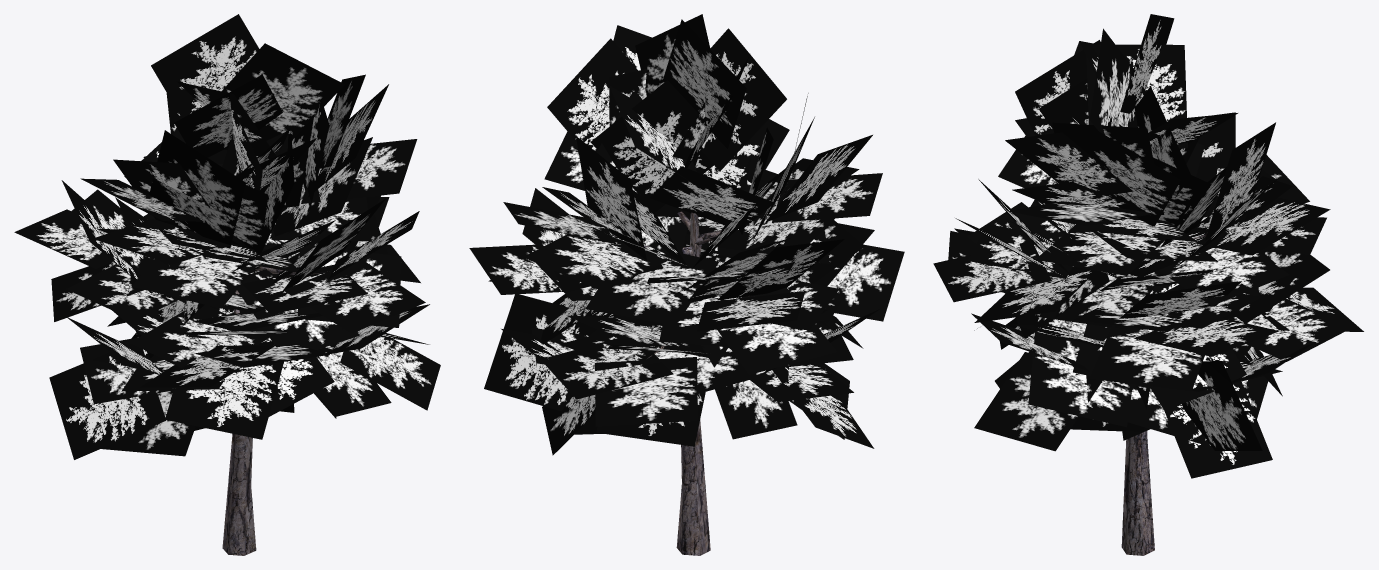
The model's file is TREE 1.fbx.
The picture shows the model from 3 angles, left to right: view 1: azimuth 30°, elevation 25°; view 2: azimuth 150°, elevation 25°; view 3: azimuth 270°, elevation 25°; orthographic projection.
Visible parts, largest first — view 1: leaves_Leav material_0; view 2: leaves_Leav material_0; view 3: leaves_Leav material_0.
Part boxes in pixels (x1,y1,x2,y2): leaves_Leav material_0: [14, 14, 440, 555]; leaves_Leav material_0: [469, 14, 904, 555]; leaves_Leav material_0: [933, 14, 1363, 555].
Size of the model in its own units: 1068 by 1506 by 1095.
Materials: 2 (2 with a texture image).
